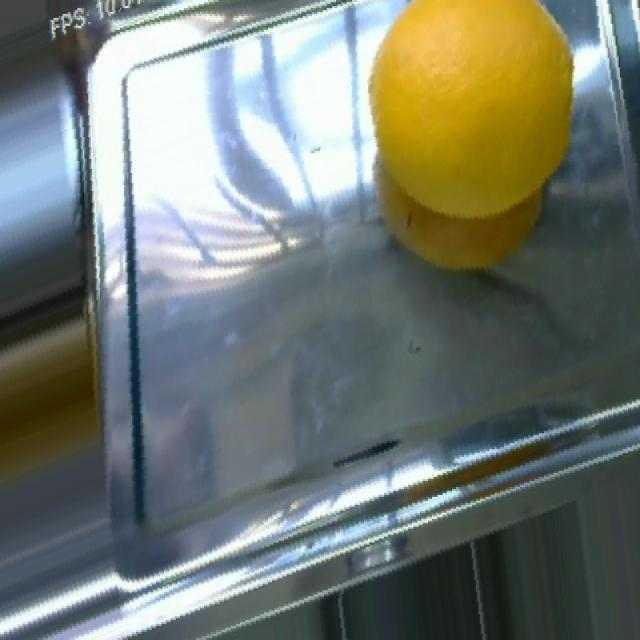Fruit: (352, 0, 589, 288)
